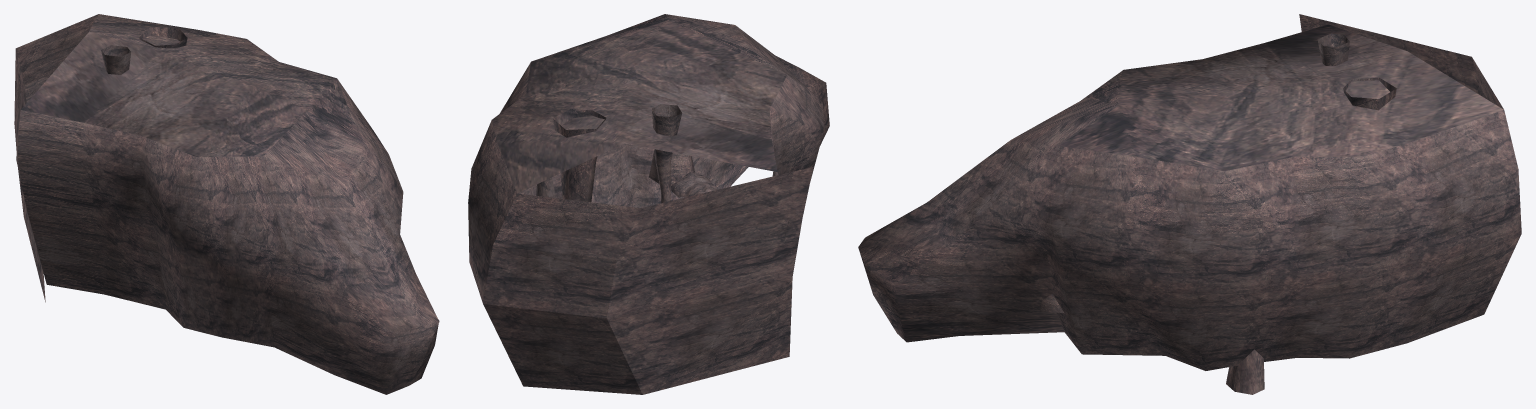
File: dcfx4_yanbi_n.FBX
3 views of the same model, side by side, from view 1: azimuth 30°, elevation 25°; view 2: azimuth 150°, elevation 25°; view 3: azimuth 270°, elevation 25° (orthographic). The views are drawn at different scales.
Visible parts, largest first — view 1: dcfx4_yanbi; view 2: dcfx4_yanbi; view 3: dcfx4_yanbi.
Part boxes in pixels (<box>): dcfx4_yanbi: <box>14,14,439,394</box>; dcfx4_yanbi: <box>468,14,829,394</box>; dcfx4_yanbi: <box>858,14,1521,394</box>.
Bounding box in the file's own units: 3418 × 2519 × 5686.
